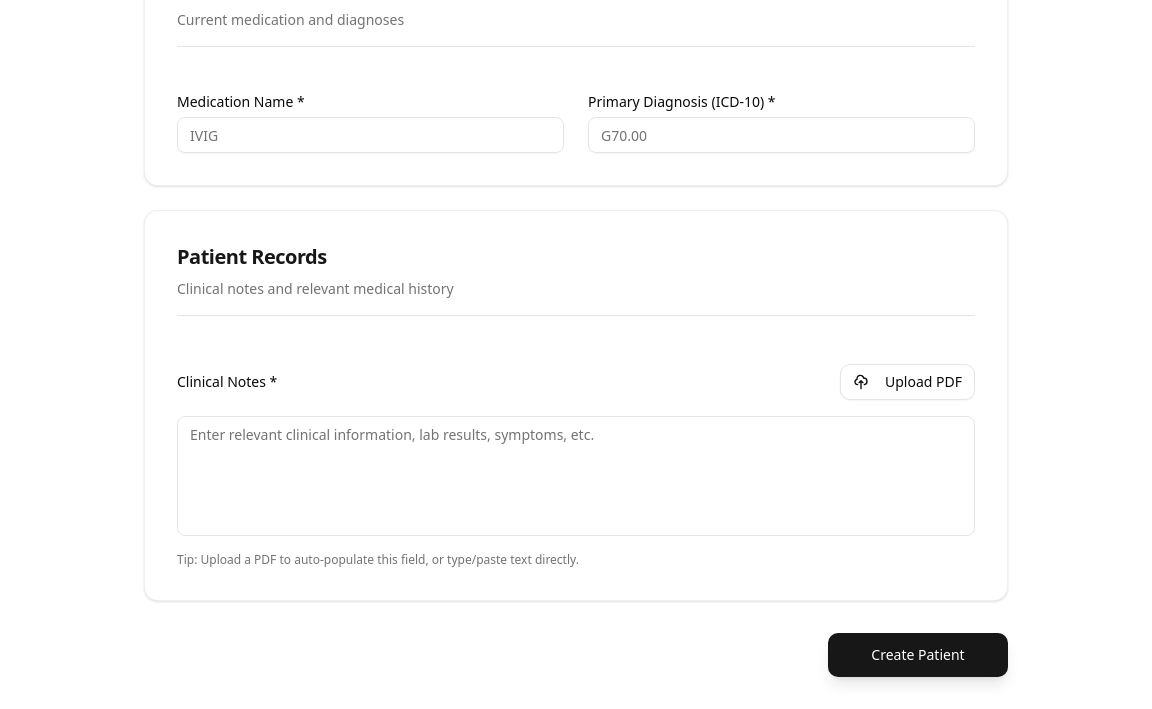
Scenario: PatientForm › form validation › shows validation error for empty first name
The width and height of the screenshot is (1152, 709).
(page scrolled)
Step 1. Click the button "Create Patient" → {"x": 918, "y": 655}, box [828,633,1008,677]
(page scrolled)
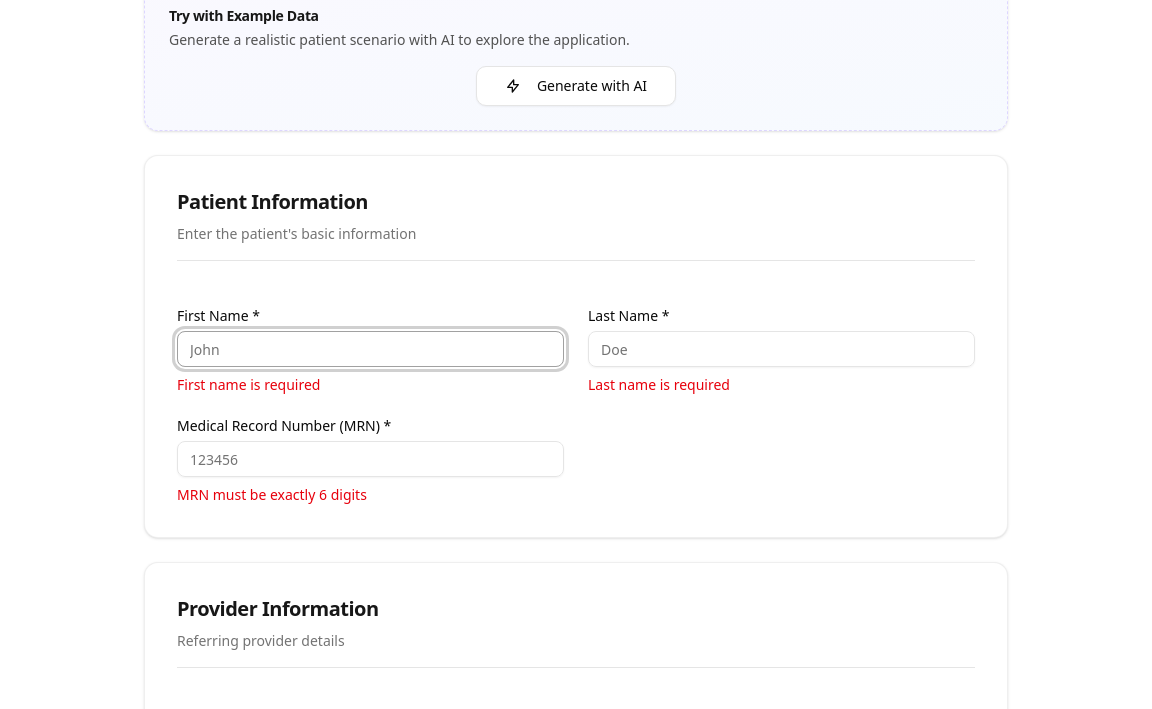
Now the text "First name is required" is shown, box [177,375,320,394]
